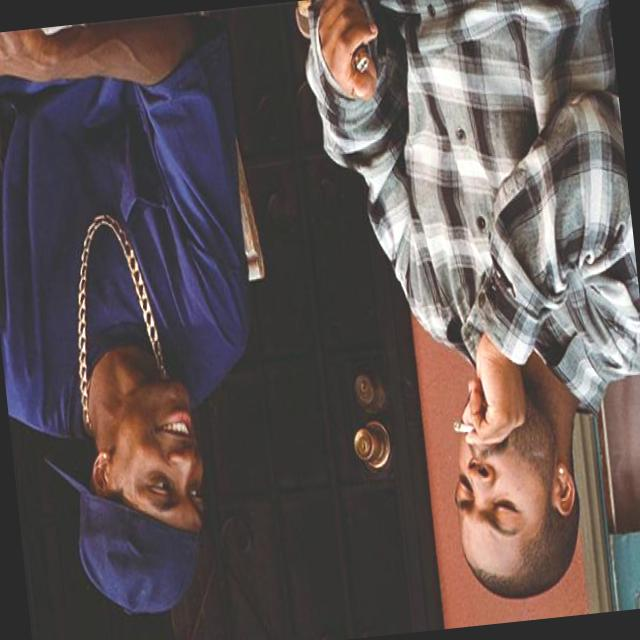smoke: (442, 416, 480, 448)
